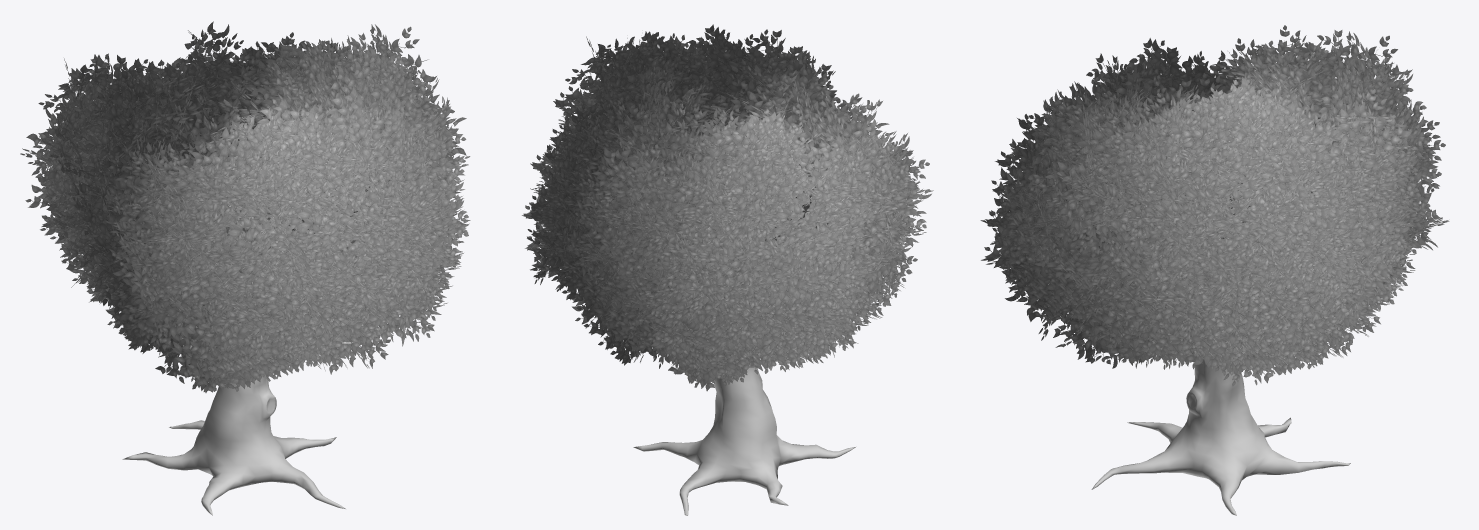
Rendered from SM_TreeLarge_03_Unity.fbx.
3 views of the same model, side by side, from view 1: azimuth 30°, elevation 25°; view 2: azimuth 150°, elevation 25°; view 3: azimuth 270°, elevation 25° (orthographic). The views are drawn at different scales.
Visible parts, largest first — view 1: Tree_Large_03_LOD0; view 2: Tree_Large_03_LOD0; view 3: Tree_Large_03_LOD0.
Part boxes in pixels (x1,y1,x2,y2): Tree_Large_03_LOD0: (20, 21, 470, 515); Tree_Large_03_LOD0: (522, 24, 933, 515); Tree_Large_03_LOD0: (980, 25, 1449, 515).
Size of what is drawn, in the model's own units: 93.82 by 101 by 104.
